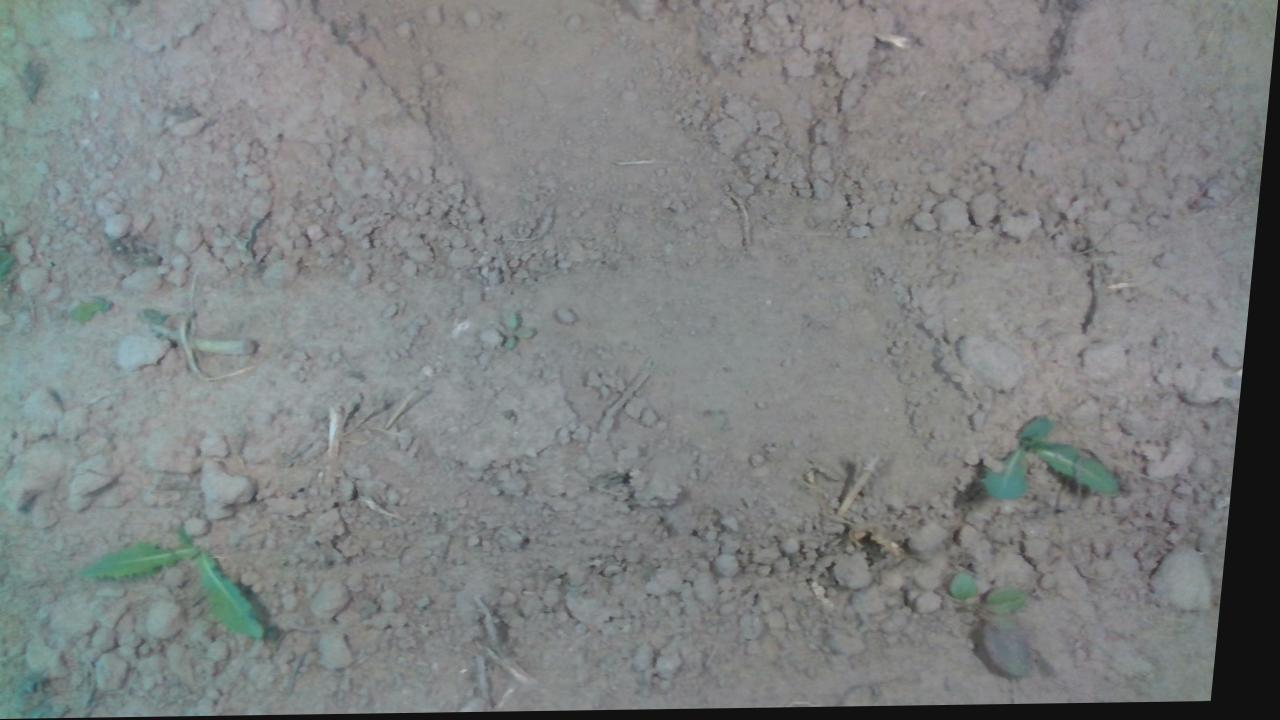weed: (86, 524, 285, 642), (987, 414, 1134, 505), (951, 571, 1055, 683)
